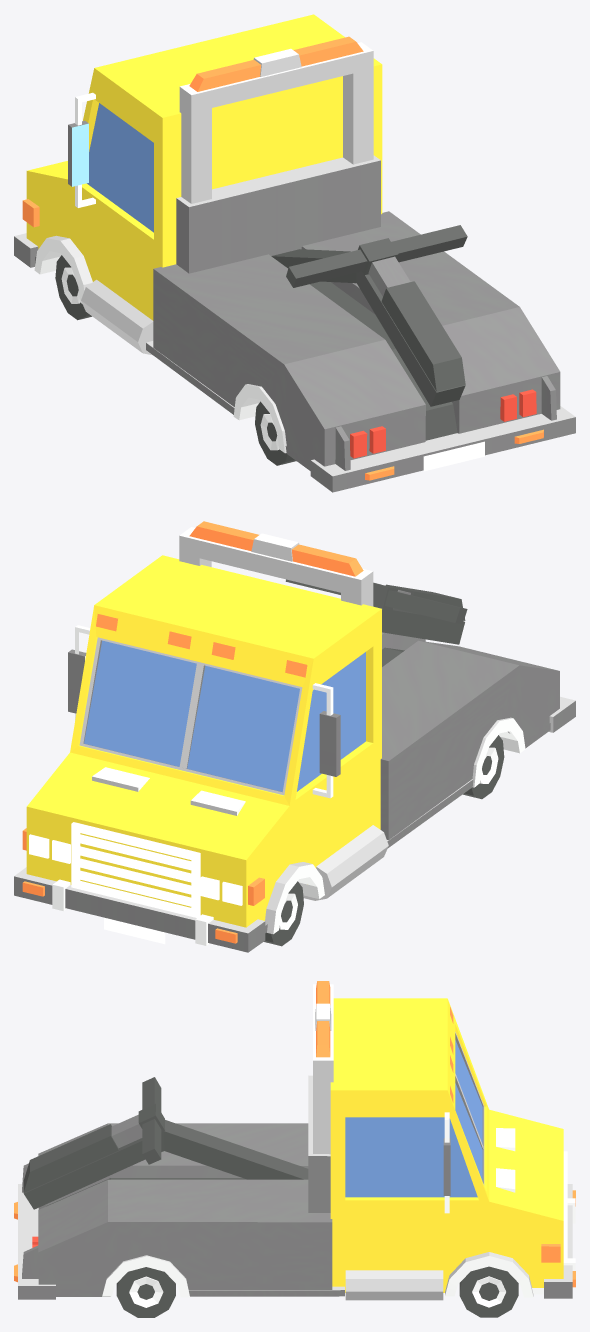
The model's file is transport_purpose_wrecker.007.glb.
3 renders of one model, top to bottom at view 1: azimuth 30°, elevation 25°; view 2: azimuth 150°, elevation 25°; view 3: azimuth 270°, elevation 25°, orthographic. The views are drawn at different scales.
Visible parts, largest first — view 1: transport_purpose.007(Clone); view 2: transport_purpose.007(Clone); view 3: transport_purpose.007(Clone).
Boxes of the visible parts, <box> form: transport_purpose.007(Clone): <box>14,14,575,492</box>; transport_purpose.007(Clone): <box>14,521,575,952</box>; transport_purpose.007(Clone): <box>14,981,575,1317</box>.
Size of the model in its own units: 2.02 by 2.19 by 4.26.
Materials: 1 (1 with a texture image).
